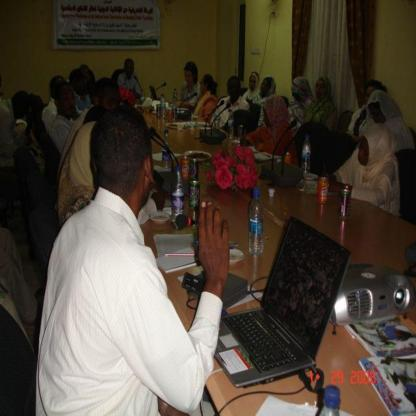board: (214, 214, 346, 394), (248, 189, 264, 253), (172, 164, 184, 218), (301, 133, 311, 177), (188, 177, 200, 210), (162, 130, 172, 168), (317, 175, 328, 205), (340, 188, 350, 218), (181, 152, 191, 180), (227, 106, 234, 140), (191, 156, 199, 180), (149, 85, 159, 102), (161, 96, 167, 120), (283, 150, 292, 163), (168, 106, 174, 125), (173, 88, 178, 108)
